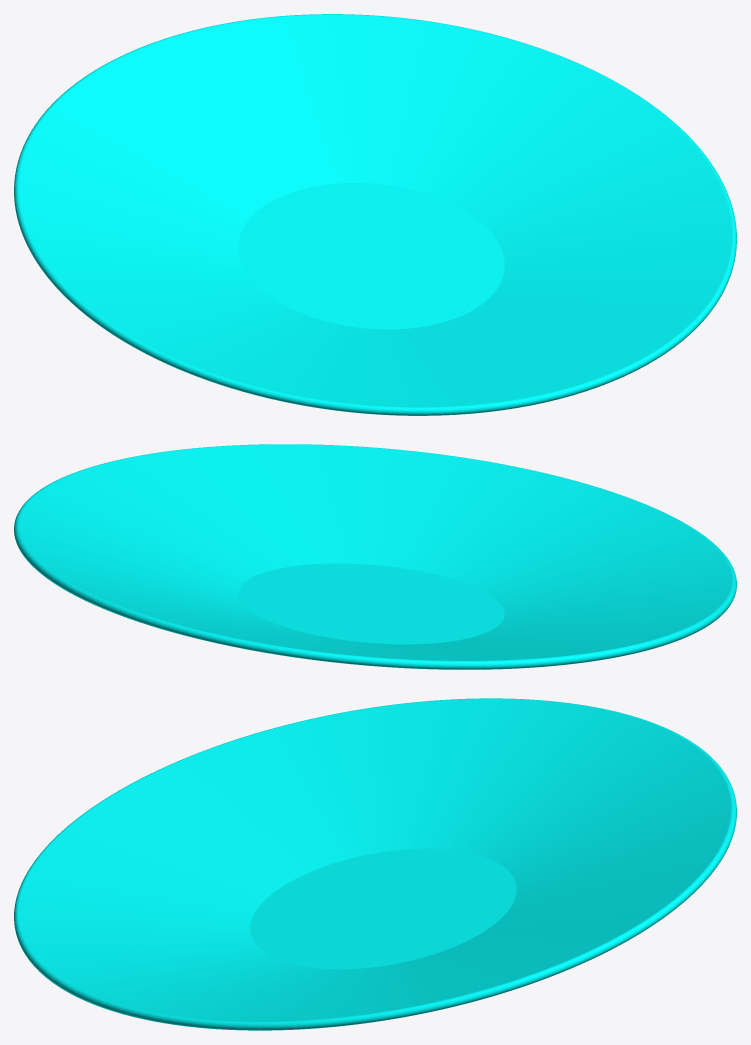
Rendered from plate.dae.
3 renders of one model, top to bottom at view 1: azimuth 30°, elevation 25°; view 2: azimuth 150°, elevation 25°; view 3: azimuth 270°, elevation 25°, orthographic.
Parts seen in each view (by area): view 1: 5b35354ff713250cbe0b4891; view 2: 5b35354ff713250cbe0b4891; view 3: 5b35354ff713250cbe0b4891.
Part boxes in pixels (x1,y1,x2,y2): 5b35354ff713250cbe0b4891: (14, 14, 736, 415); 5b35354ff713250cbe0b4891: (14, 444, 736, 669); 5b35354ff713250cbe0b4891: (14, 698, 736, 1030).
Bounding box in the file's own units: 0.1615 × 0.1595 × 0.0313.
